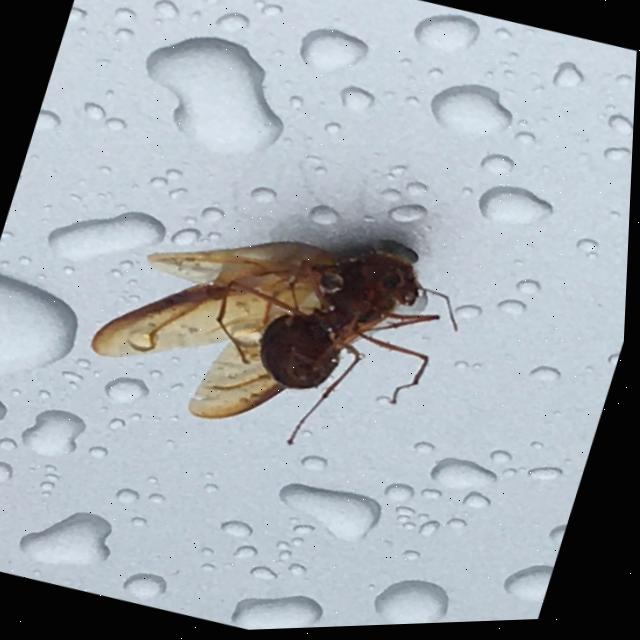Dead-Female-Alate: (71, 173, 485, 492)
